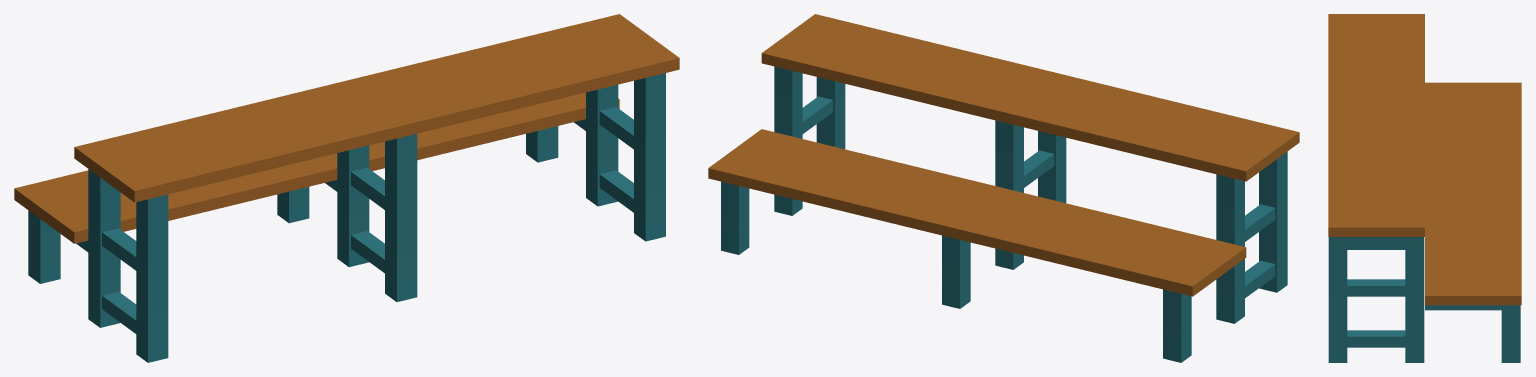
The model's file is Bench_1_E_5.fbx.
3 views of the same model, side by side, from view 1: azimuth 30°, elevation 25°; view 2: azimuth 150°, elevation 25°; view 3: azimuth 270°, elevation 25° (orthographic). The views are drawn at different scales.
Parts seen in each view (by area): view 1: Bench_1_E_5; view 2: Bench_1_E_5; view 3: Bench_1_E_5.
Boxes of the visible parts, box(x1,y1,x2,y2) form: Bench_1_E_5: box(14, 14, 679, 362); Bench_1_E_5: box(708, 14, 1299, 362); Bench_1_E_5: box(1328, 14, 1521, 362).
Size of the model in its own units: 213 by 65.4 by 81.37.
